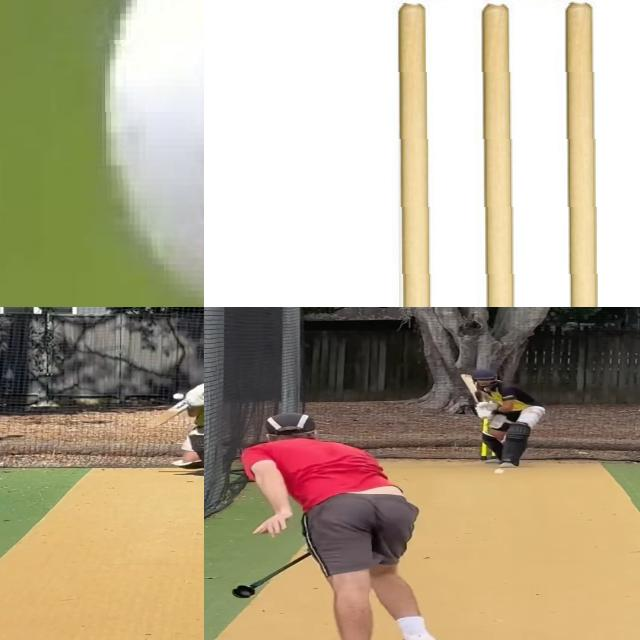Cricket ball: (97, 0, 204, 307), (492, 467, 508, 476), (172, 392, 186, 400)
Stumps: (392, 0, 598, 307)
